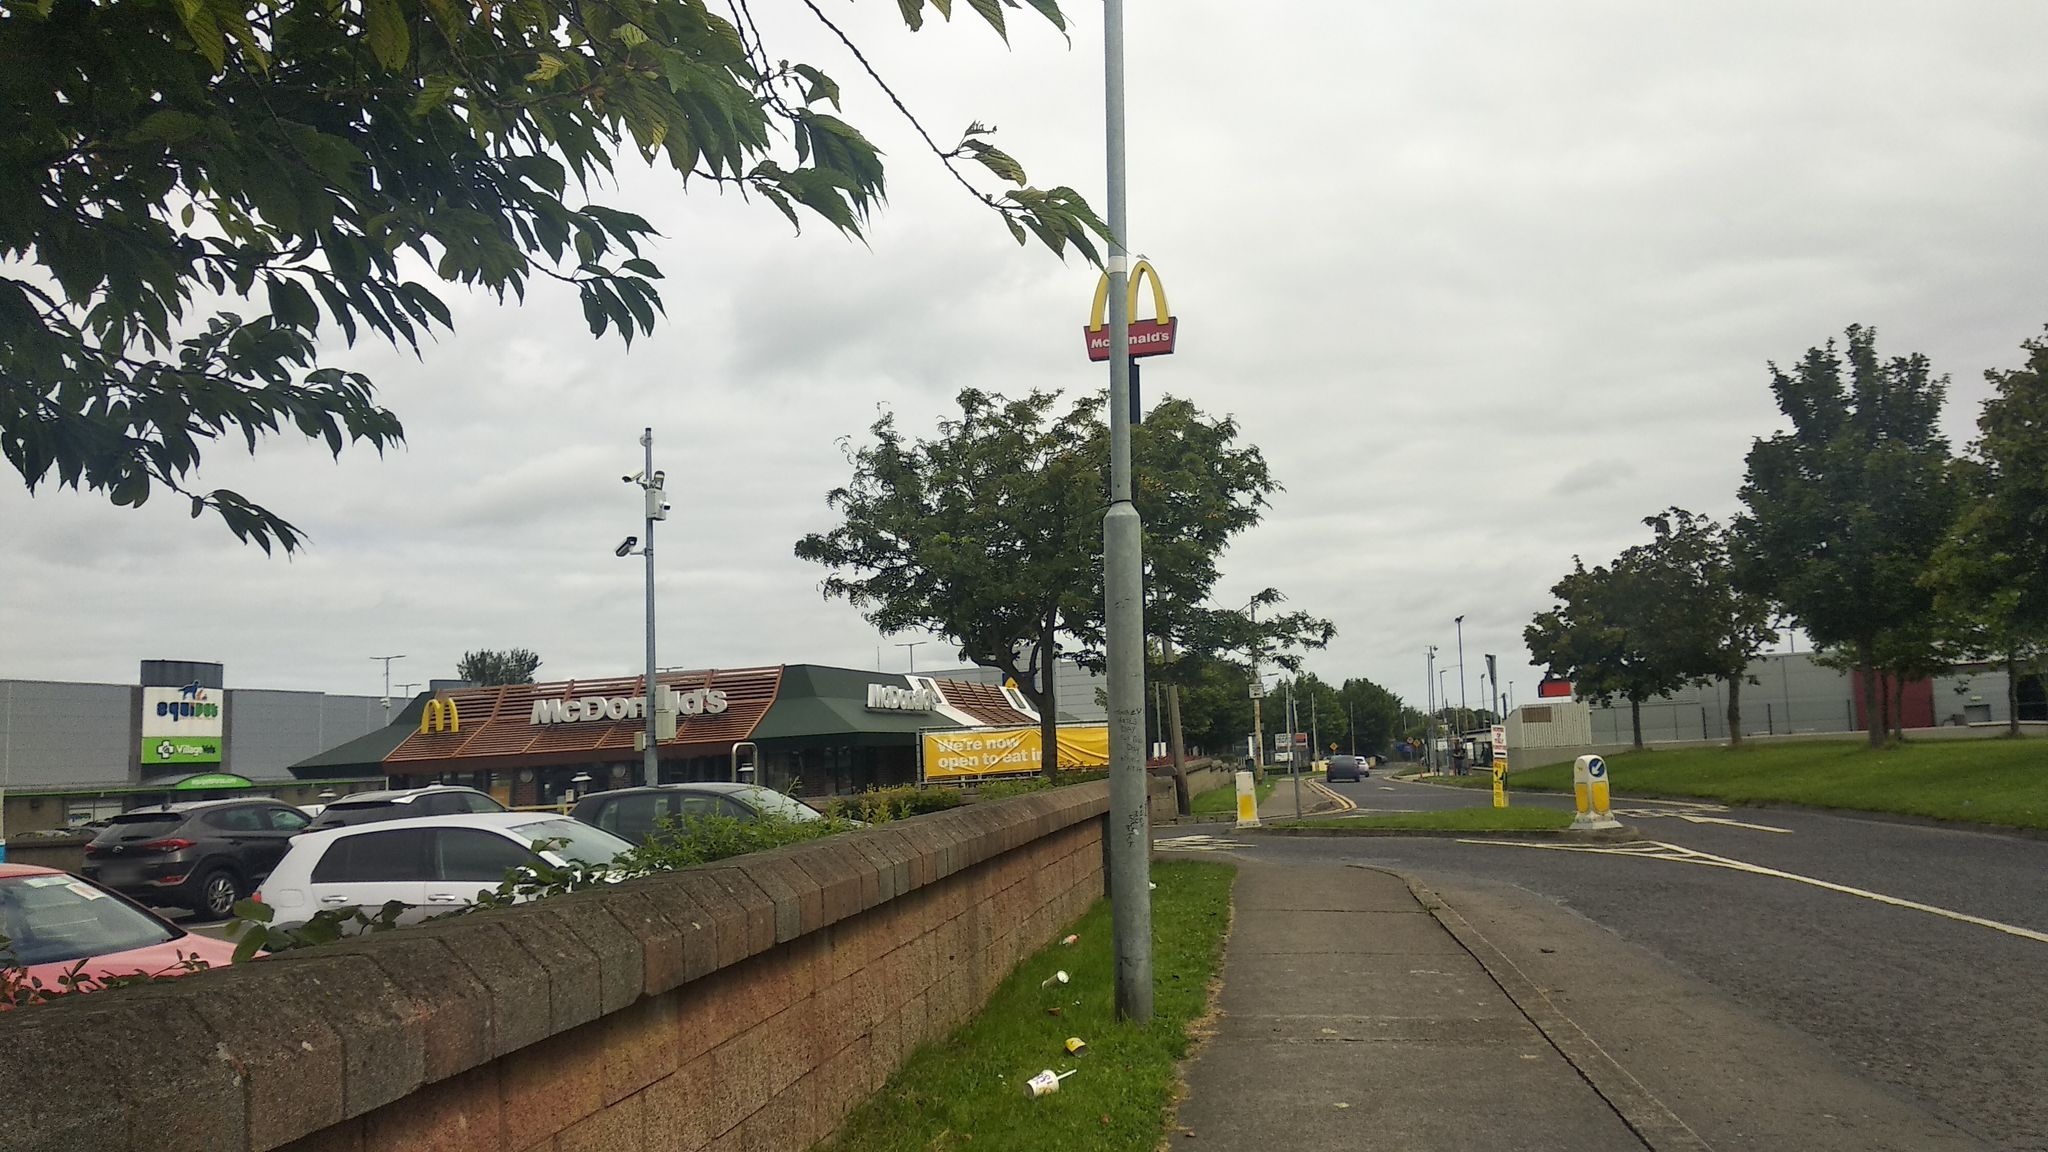vinyl banner: (909, 724, 1129, 785)
